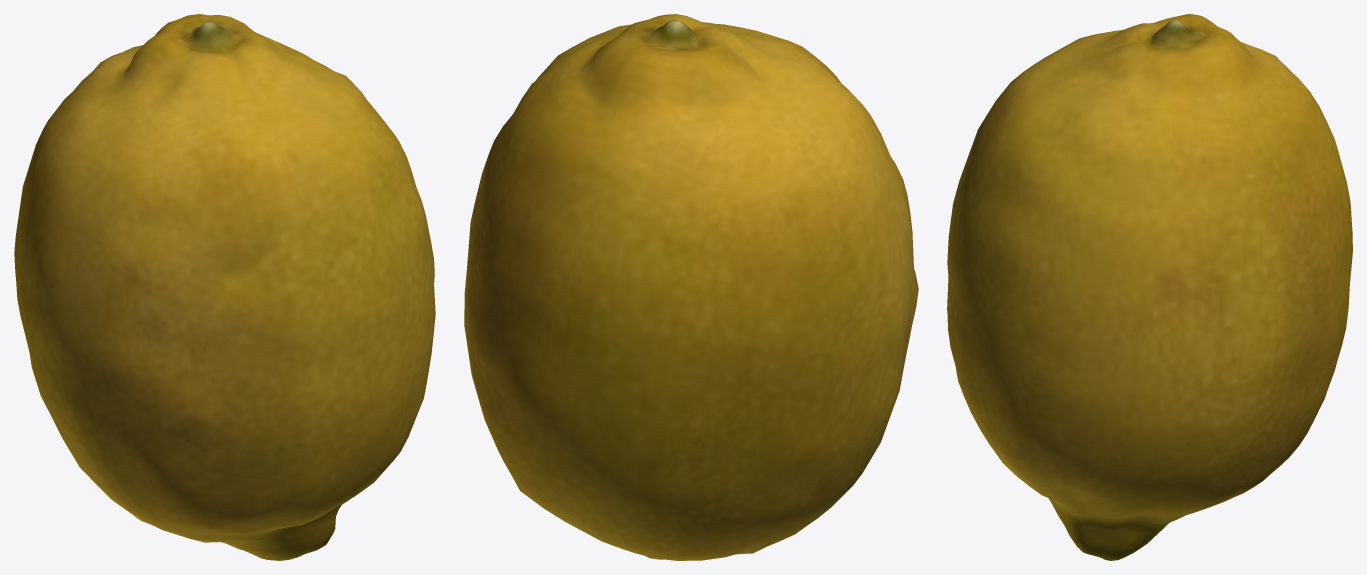
The model's file is lemon.glb.
3 views of the same model, side by side, from view 1: azimuth 30°, elevation 25°; view 2: azimuth 150°, elevation 25°; view 3: azimuth 270°, elevation 25° (orthographic). The views are drawn at different scales.
Visible parts, largest first — view 1: lemon; view 2: lemon; view 3: lemon.
Part boxes in pixels (x1,y1,x2,y2): lemon: (14,14,435,560); lemon: (464,14,918,560); lemon: (947,14,1352,560).
Size of the model in its own units: 0.0687 by 0.0954 by 0.0683.
1 material, 1 textured.
